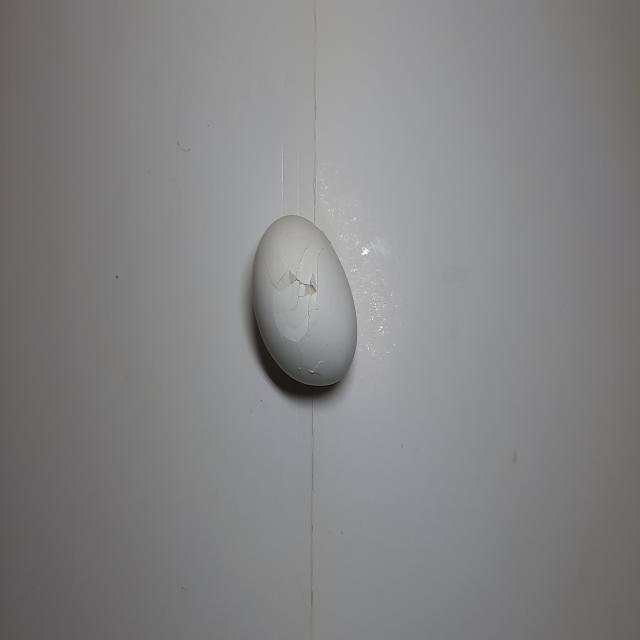egg shell: (249, 212, 359, 394)
